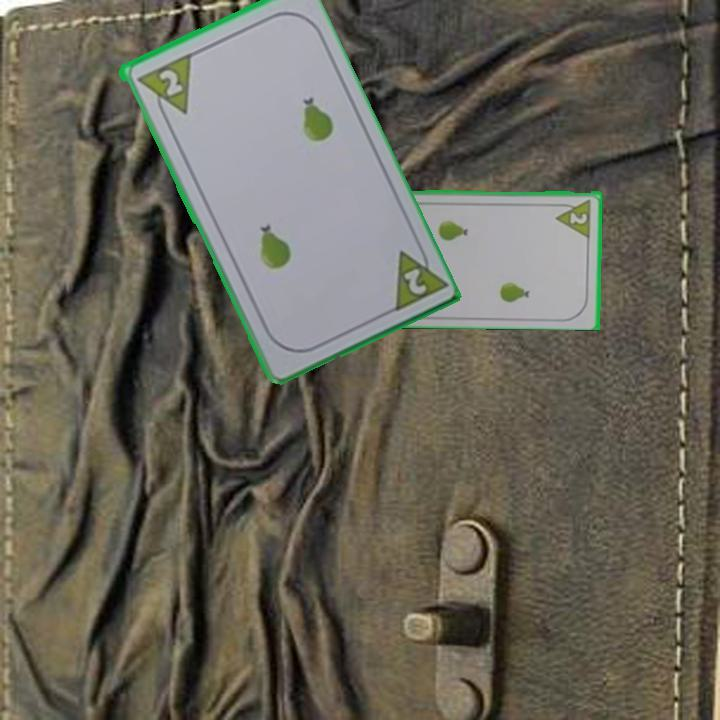2p: (386, 238, 447, 315), (133, 50, 194, 125), (553, 195, 594, 239)
